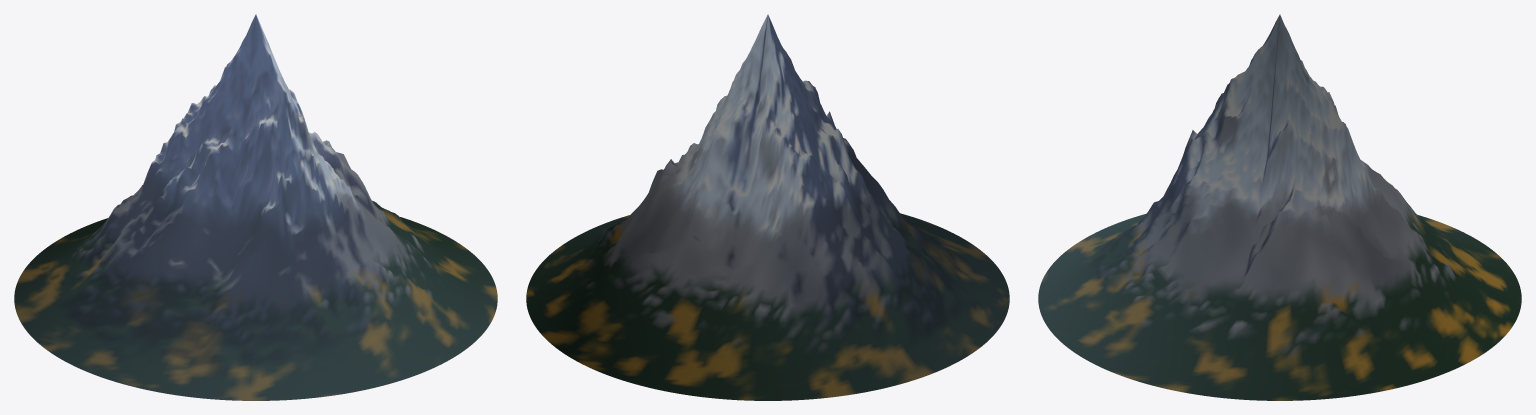
3 renders of one model, left to right at view 1: azimuth 30°, elevation 25°; view 2: azimuth 150°, elevation 25°; view 3: azimuth 270°, elevation 25°, orthographic.
Parts seen in each view (by area): view 1: L4_3_Peak4; view 2: L4_3_Peak4; view 3: L4_3_Peak4.
Boxes of the visible parts, x1=… form: L4_3_Peak4: x1=14, y1=14, x2=497, y2=400; L4_3_Peak4: x1=526, y1=14, x2=1009, y2=400; L4_3_Peak4: x1=1038, y1=14, x2=1521, y2=400.
Size of the model in its own units: 1200 by 780 by 1200.
